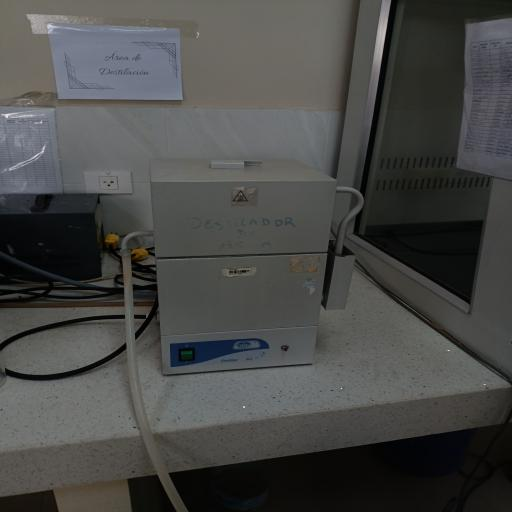Destilador_agua: (138, 149, 364, 381)
